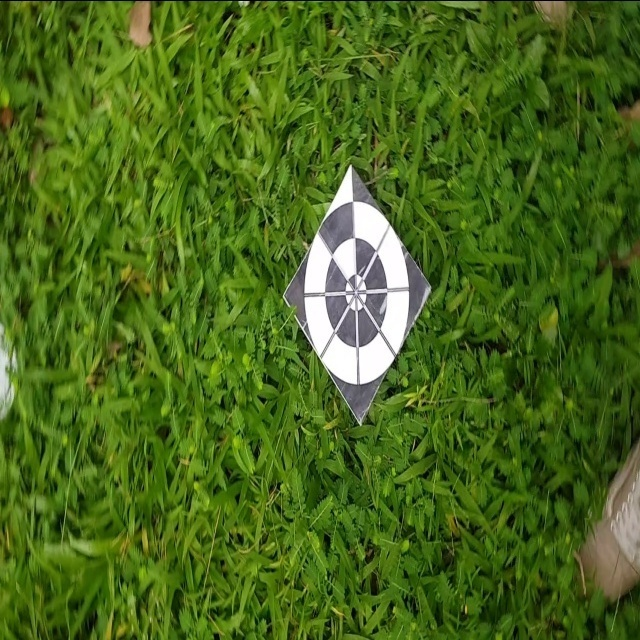landing-zone: (279, 156, 434, 427)
